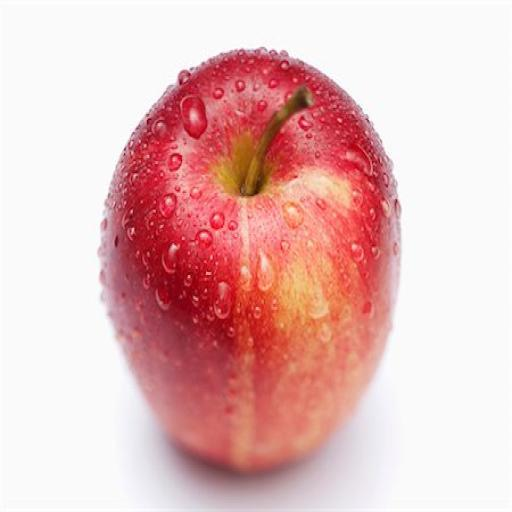apple: (101, 51, 400, 470)
